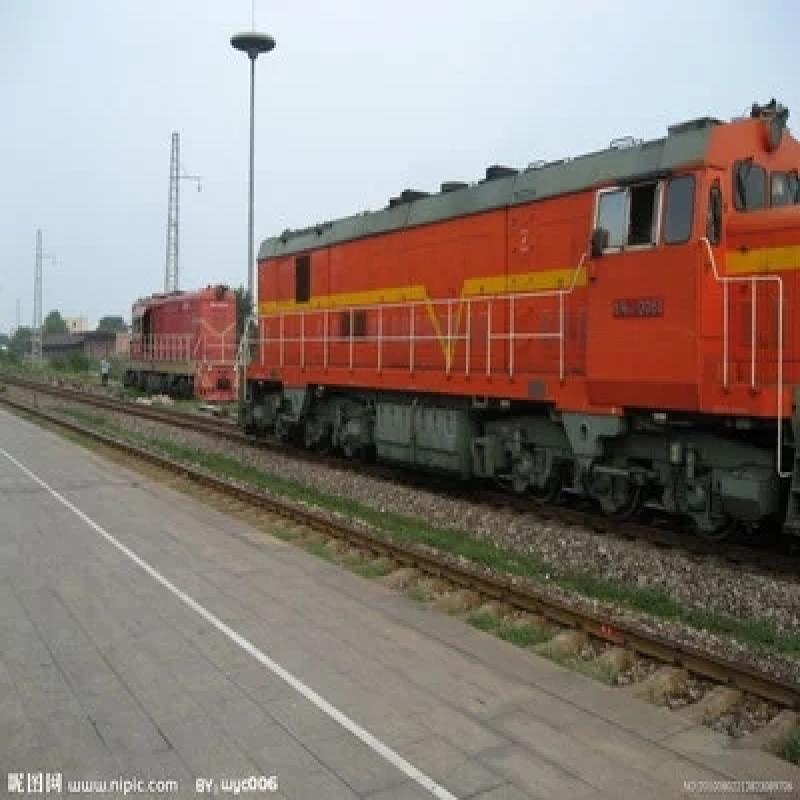train: (245, 86, 797, 569), (123, 278, 245, 404)
